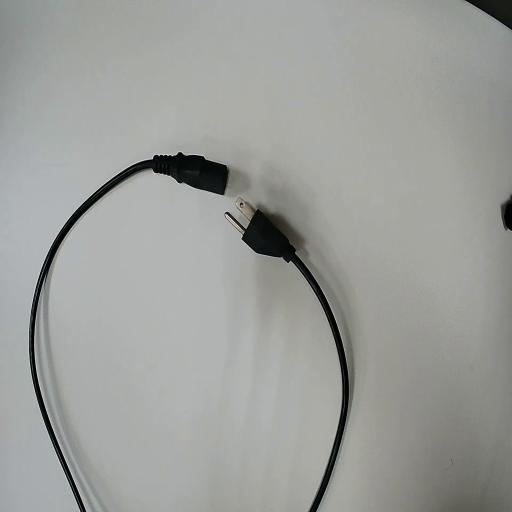wire: (30, 153, 228, 511), (243, 209, 348, 511)
